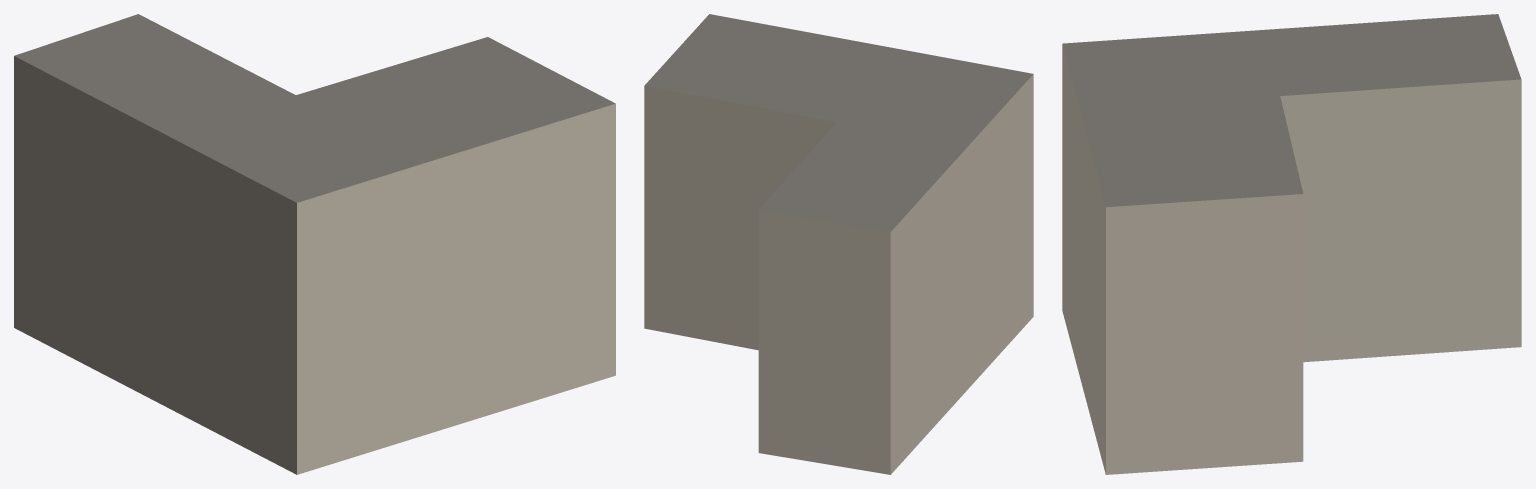
3 renders of one model, left to right at view 1: azimuth 30°, elevation 25°; view 2: azimuth 150°, elevation 25°; view 3: azimuth 270°, elevation 25°, orthographic. The views are drawn at different scales.
Visible parts, largest first — view 1: HP-w505643610; view 2: HP-w505643610; view 3: HP-w505643610.
Boxes of the visible parts, x1,y1,x2,y2 form: HP-w505643610: [14, 14, 615, 474]; HP-w505643610: [644, 14, 1033, 474]; HP-w505643610: [1062, 14, 1521, 474].
Bounding box in the file's own units: 18.58 × 12 × 18.65.
